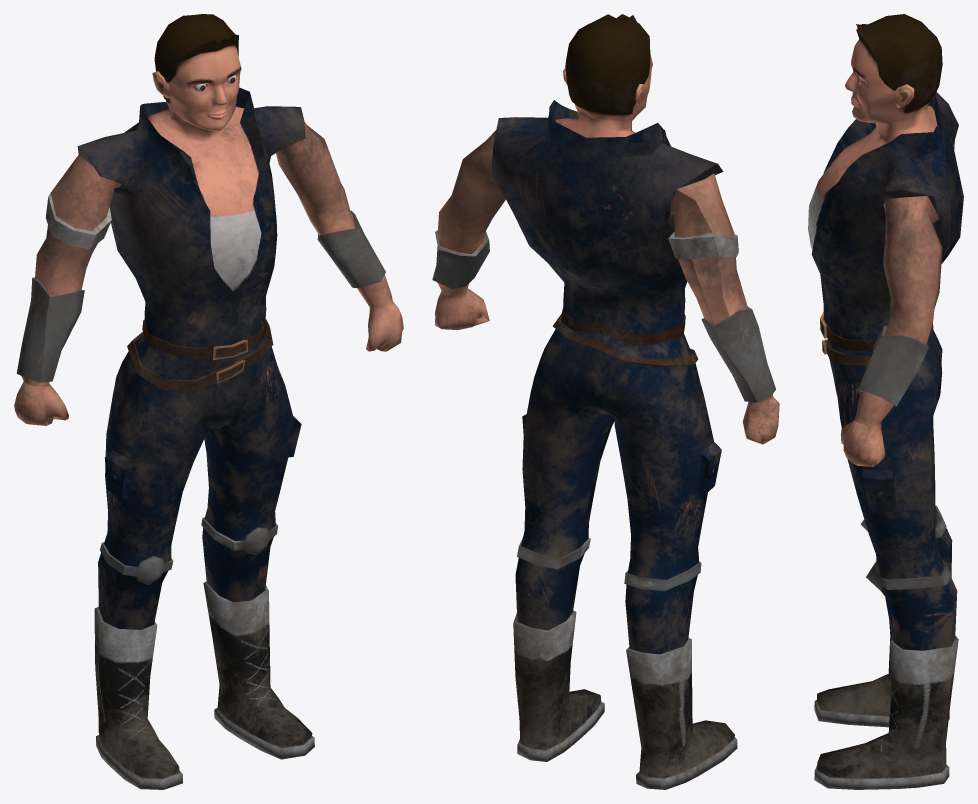
The model's file is Anim_idle_jugador.0016.obj.
3 views of the same model, side by side, from view 1: azimuth 30°, elevation 25°; view 2: azimuth 150°, elevation 25°; view 3: azimuth 270°, elevation 25° (orthographic).
Visible parts, largest first — view 1: polySurface1; view 2: polySurface1; view 3: polySurface1.
Boxes of the visible parts, box(x1,y1,x2,y2) form: polySurface1: box(14, 14, 403, 789); polySurface1: box(432, 14, 779, 789); polySurface1: box(808, 14, 963, 789).
Bounding box in the file's own units: 5.03 × 9.64 × 1.86.
